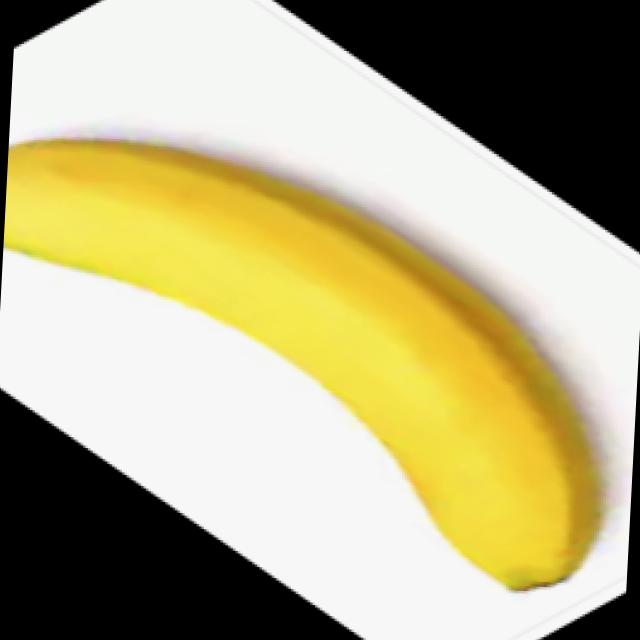Fresh_Banana: (10, 38, 635, 640)
